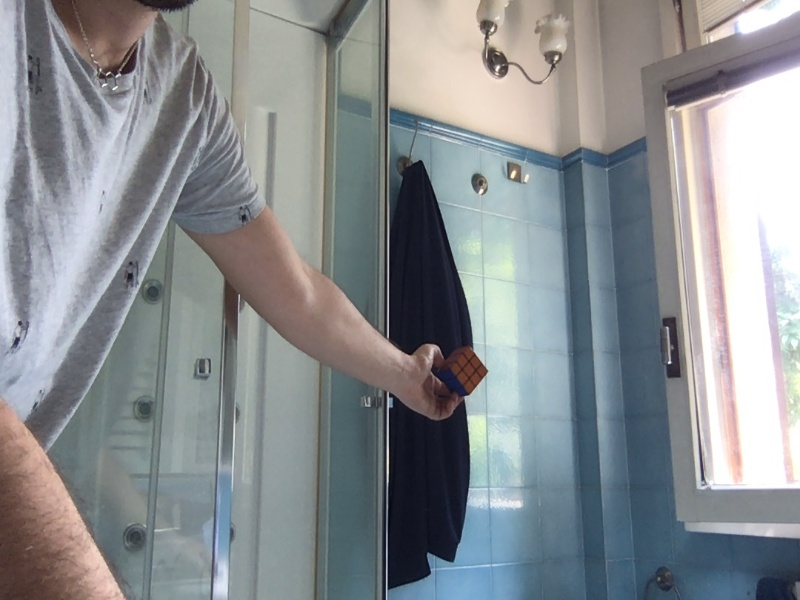rubik: (433, 346, 489, 397)
